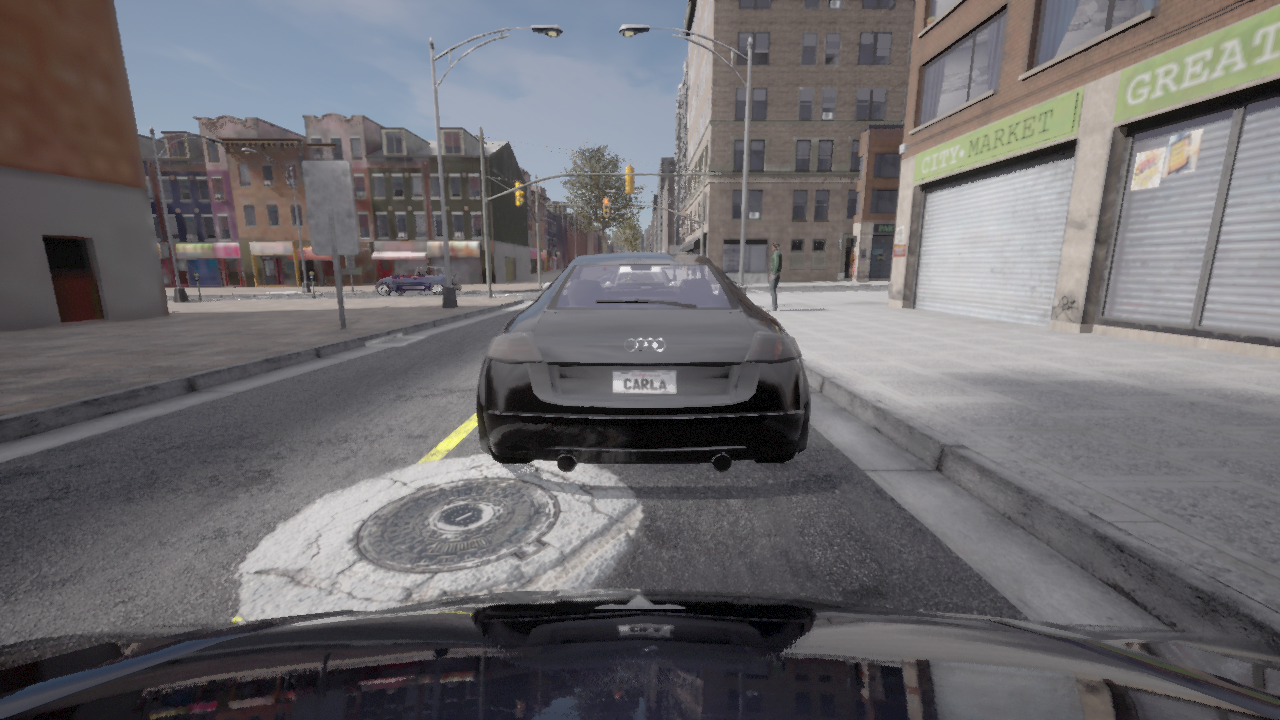cyclist: (0, 588, 1279, 719), (476, 253, 809, 473), (374, 266, 462, 296)
pedestrian: (766, 242, 782, 310)
